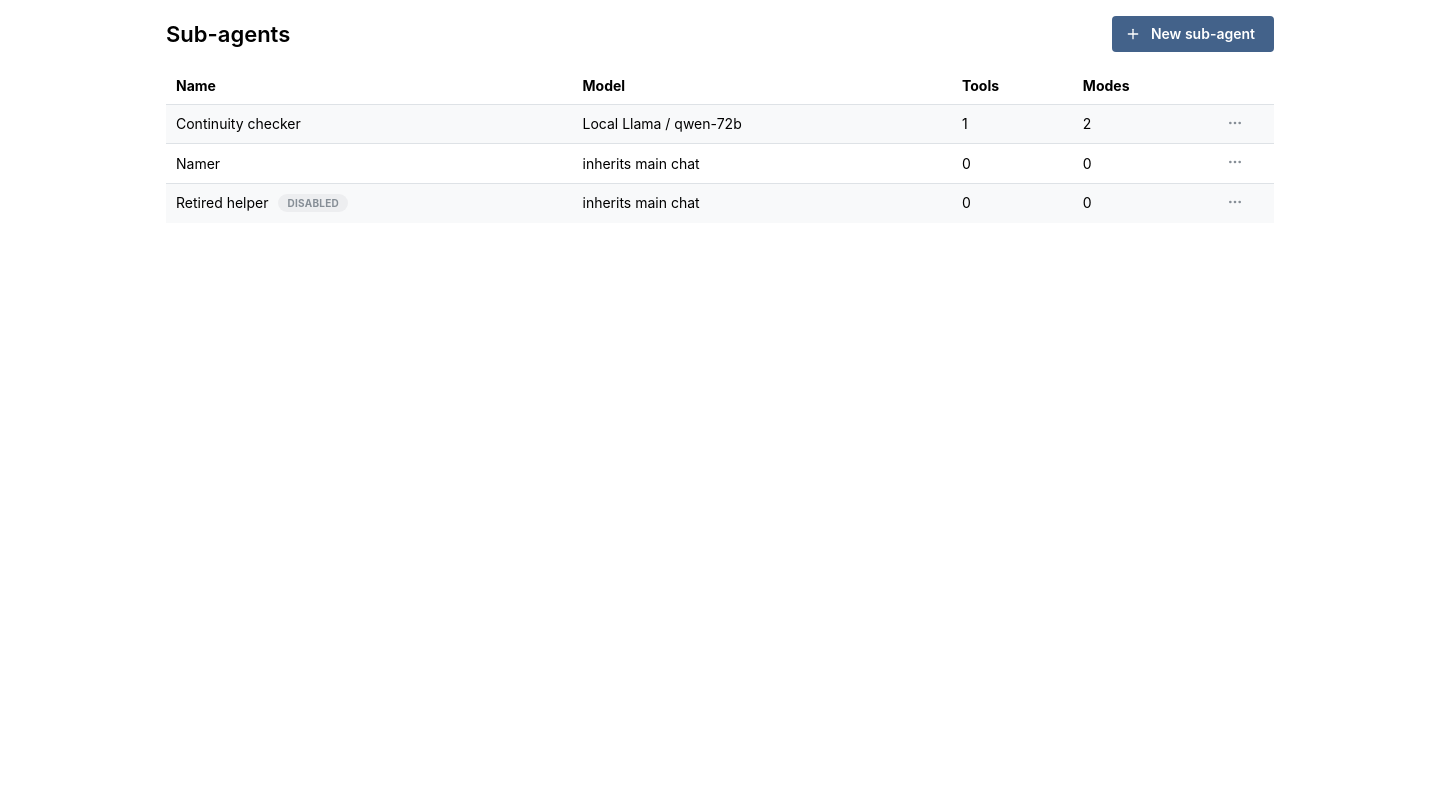
Test: editing an existing sub-agent (DoD-9) › DoD-9: the row's Edit action opens THAT sub-agent's form, seeded (UC-097 step 2)
Step 1. Click the button named "Sub-agent actions" in the row of "Continuity checker" → {"x": 1235, "y": 123}, box [1224,112,1246,134]
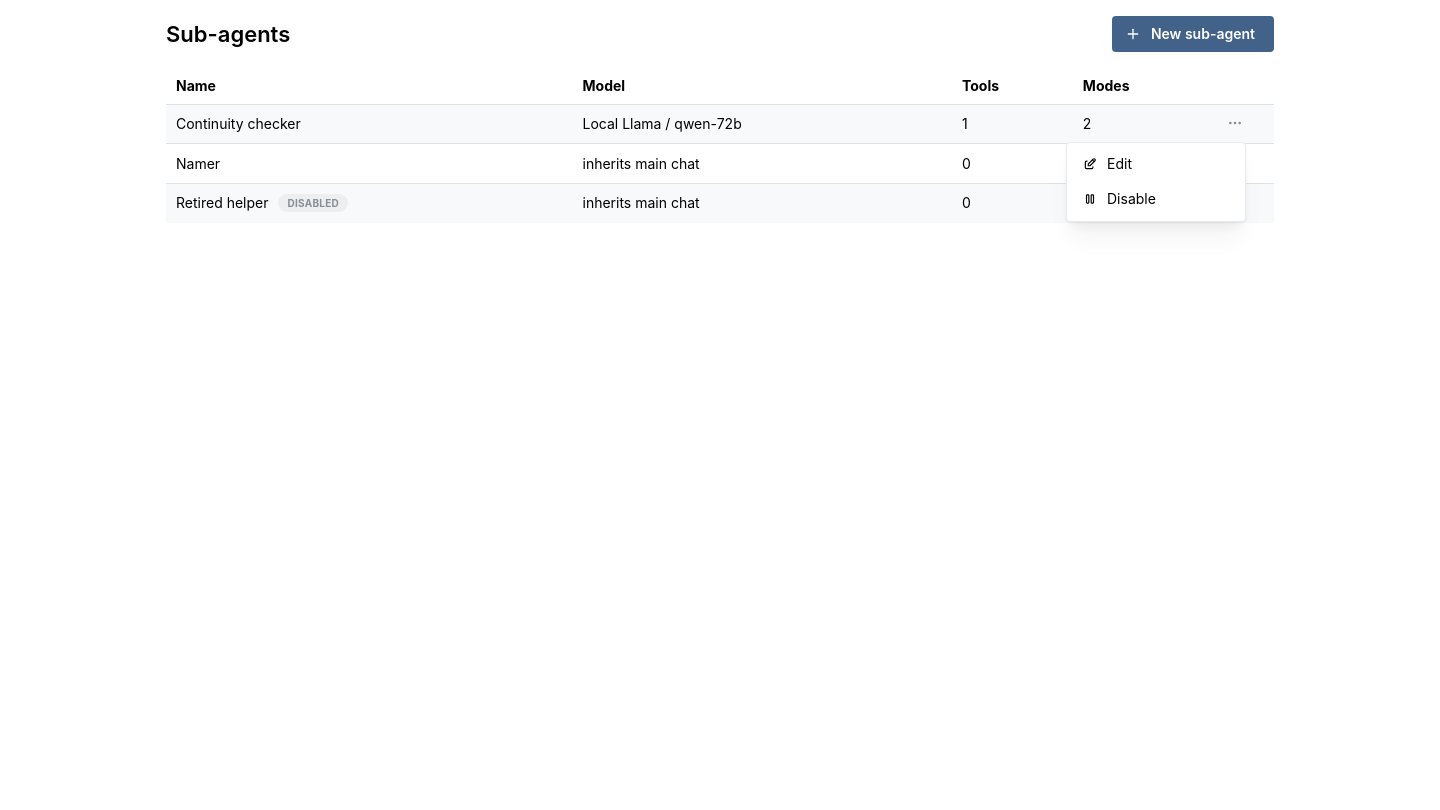
Step 2. Click the menu item "Edit" → {"x": 1156, "y": 164}, box [1071,147,1241,182]
(page scrolled)
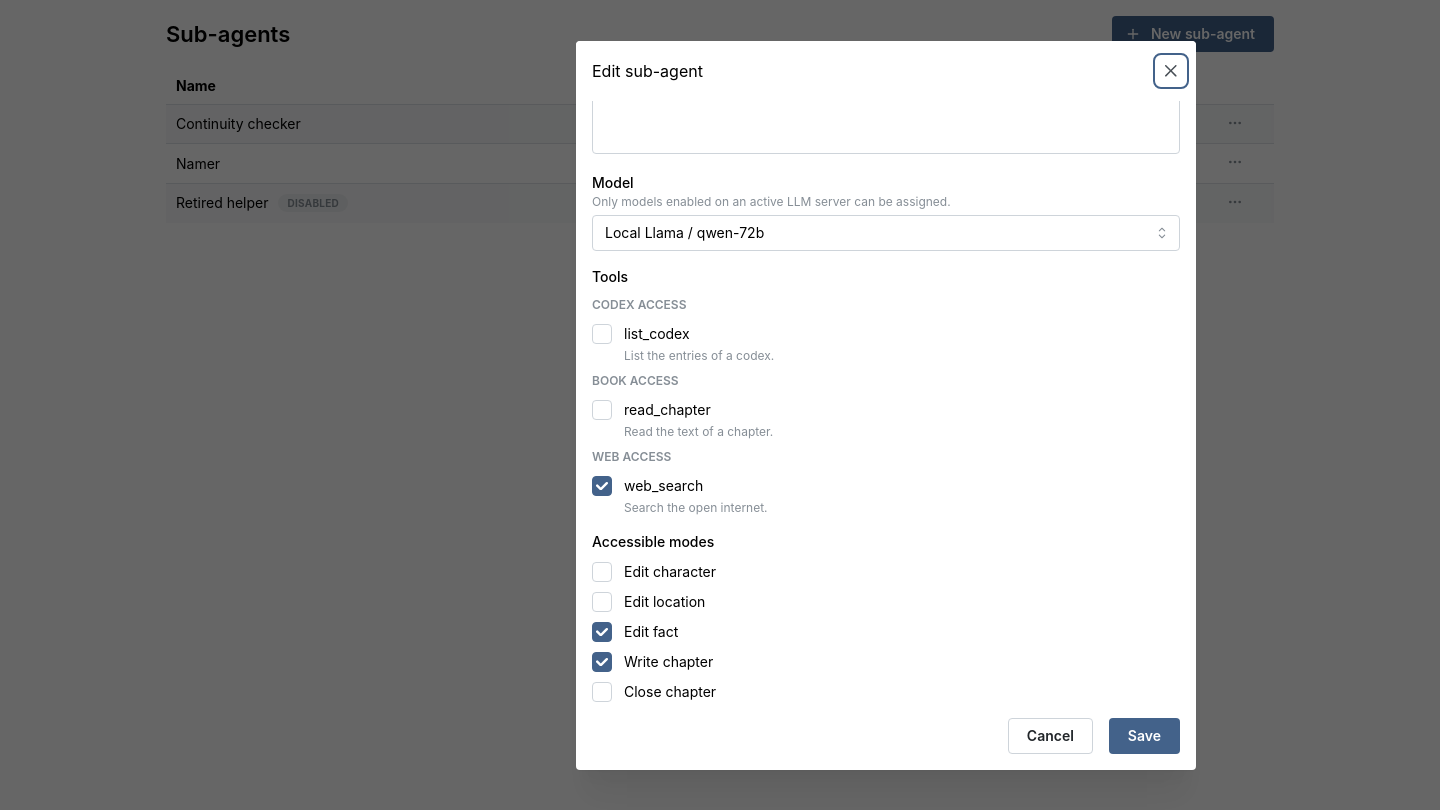
Check: the heading "Edit sub-agent" is shown, box [592,62,703,78]
Check: the text box holds "Check every chapter for contradictions.", box [592,40,1180,154]
Check: the checkbox labelled "web_search" is checked, box [592,476,612,496]
